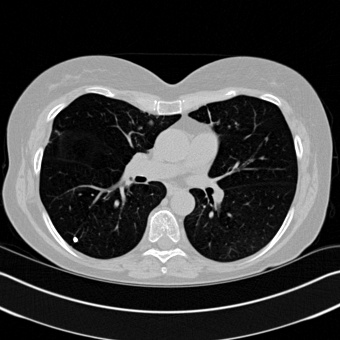PN: (72, 237, 78, 243)
